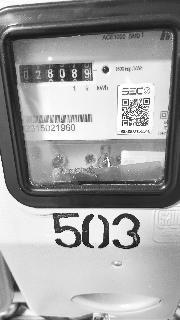1: (24, 71, 29, 80), (60, 69, 65, 78)
3: (37, 71, 42, 80)
9: (48, 70, 53, 79), (72, 69, 77, 78)
:: (85, 70, 90, 79)
